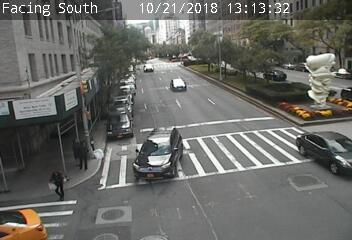car: (304, 130, 351, 170), (144, 131, 174, 178), (169, 78, 186, 94), (143, 64, 154, 73)
